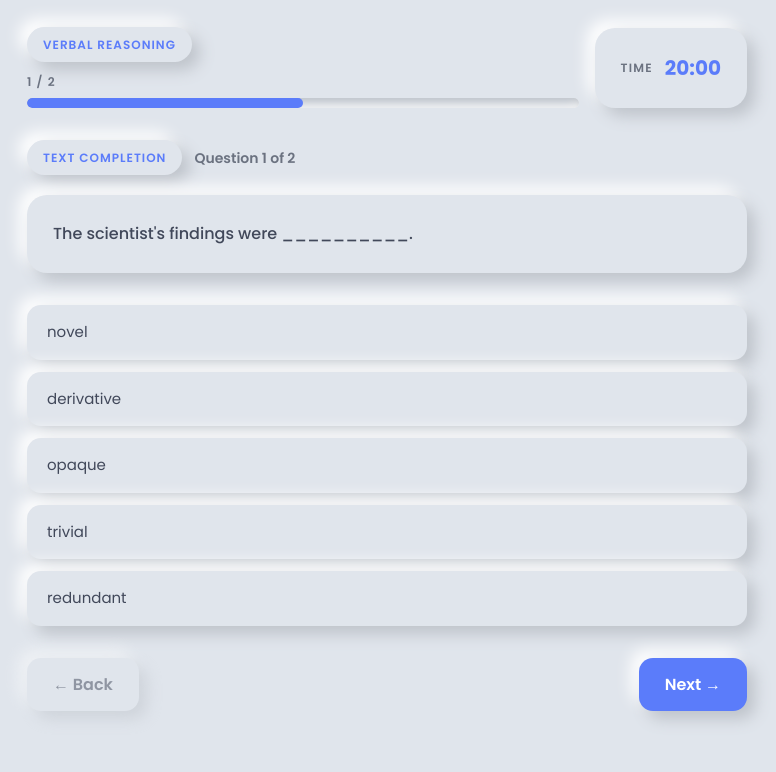
Test: Quiz page smoke › navigates back to the previous question and restores answers
The image size is (776, 772).
Expected: the text "The scientist's findings were __________." is shown, [53,222,413,245]
Click the button "novel": (67, 332) [27,305,747,360]
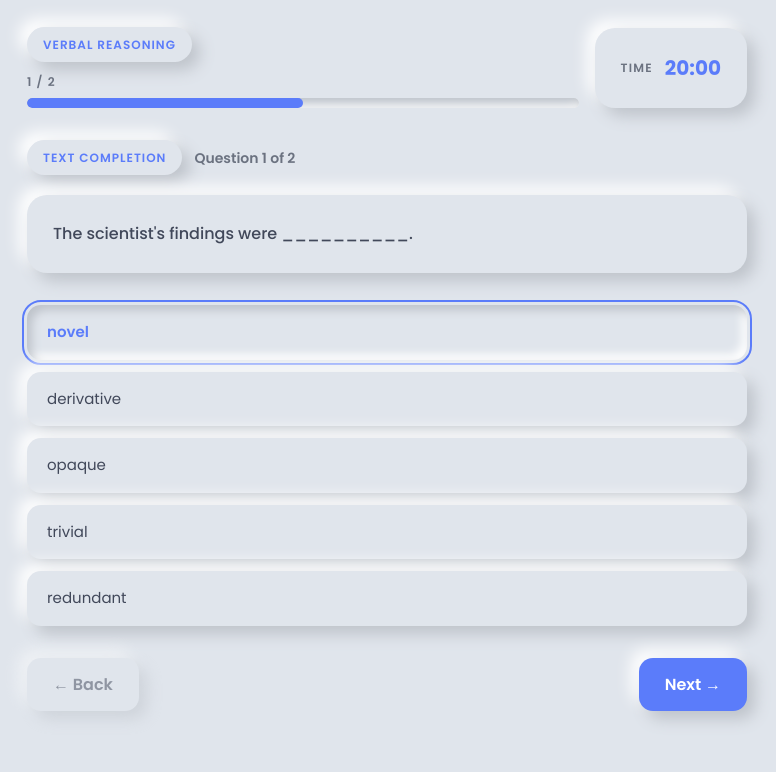
Click the button "Next →": (693, 685) [639,658,747,712]
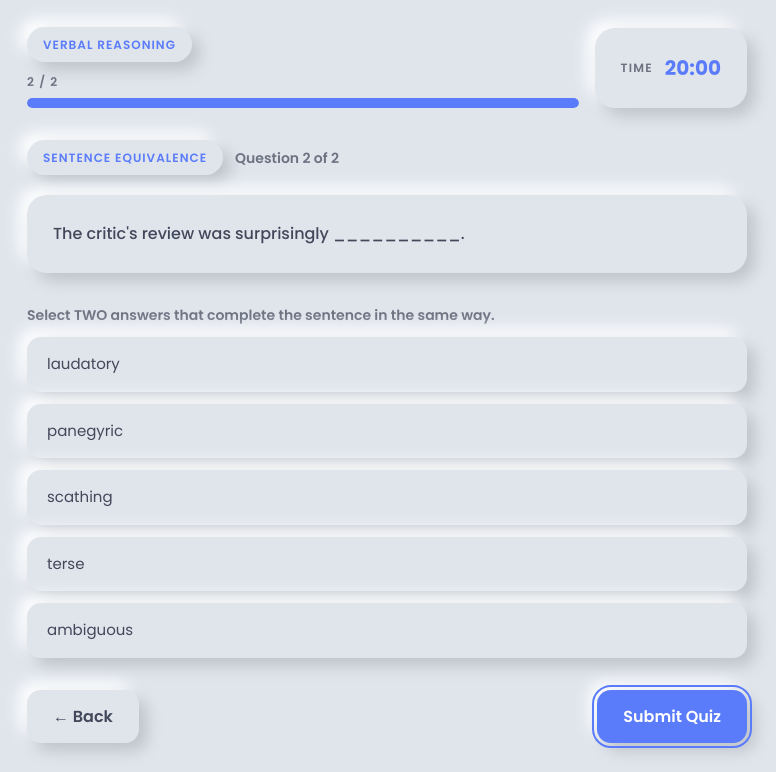
Expected: the text "Question 2 of 2" is shown, [235,148,339,168]
Click the button "← Back": (83, 717) [27,690,139,744]
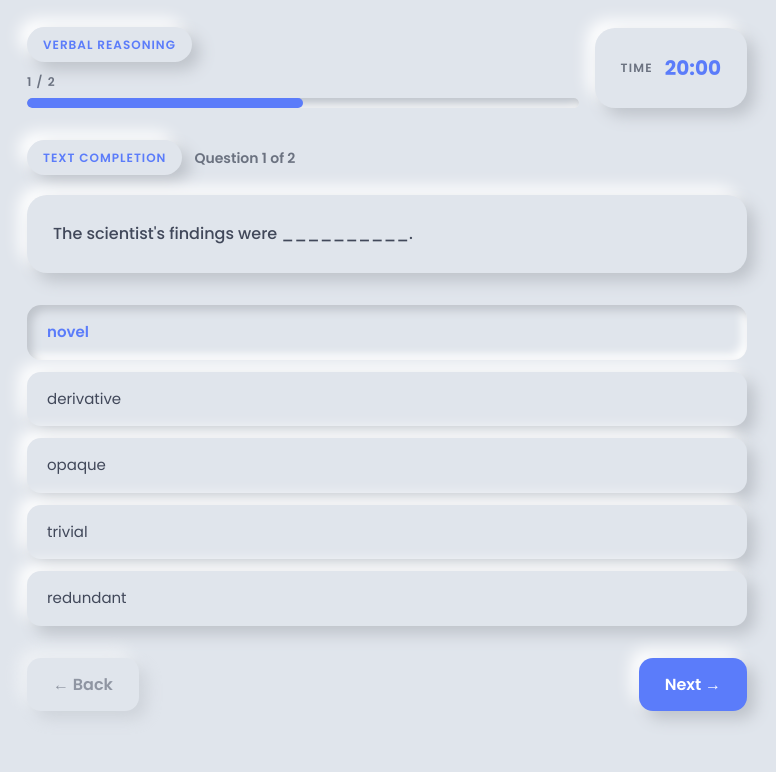
Expected: the text "Question 1 of 2" is shown, [194,148,295,168]
